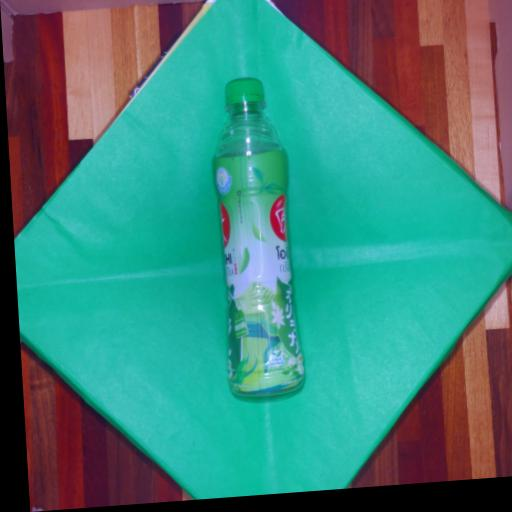bottle: (213, 79, 304, 395)
